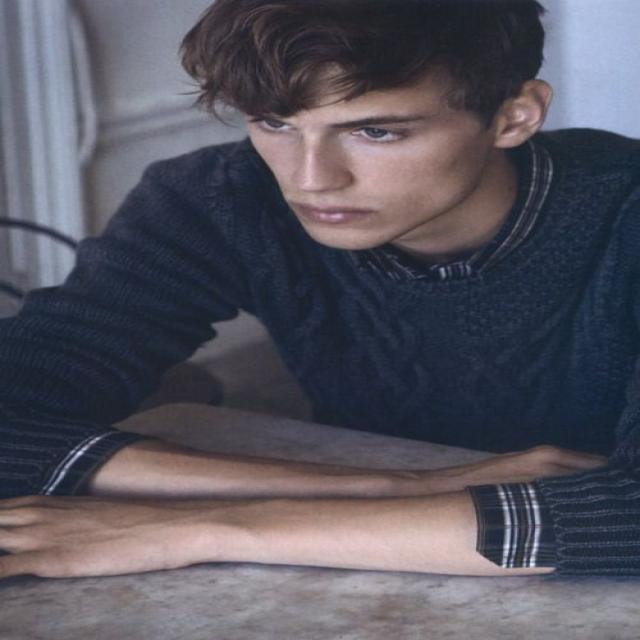earlobe: (493, 132, 516, 150)
eye: (350, 127, 404, 143), (254, 118, 296, 131)
nose: (294, 181, 354, 208)
wholeear: (493, 79, 554, 149)
